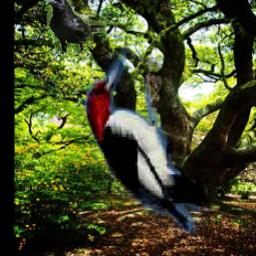Crow: (45, 0, 106, 54)
Woodpecker: (71, 50, 213, 239)
